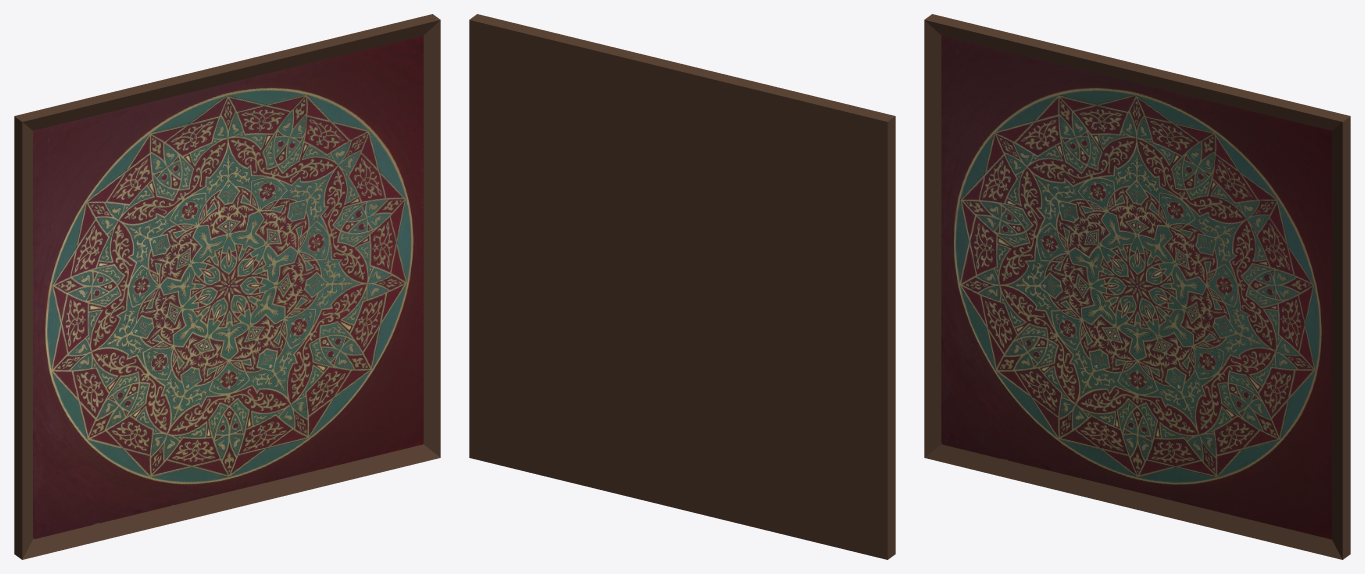
Rendered from orchis-7-orchis7-rubedo-red-a0-walnut-tray-v2.glb.
The picture shows the model from 3 angles, left to right: view 1: azimuth 30°, elevation 25°; view 2: azimuth 150°, elevation 25°; view 3: azimuth 330°, elevation 25°; orthographic projection.
Parts seen in each view (by area): view 1: FramedPrint; view 2: FramedPrint; view 3: FramedPrint.
Boxes of the visible parts, x1,y1,x2,y2 form: FramedPrint: (14,14,440,559); FramedPrint: (469,14,895,559); FramedPrint: (924,14,1350,559).
Size of the model in its own units: 0.9 by 0.9 by 0.03.
Materials: 2 (1 with a texture image).
